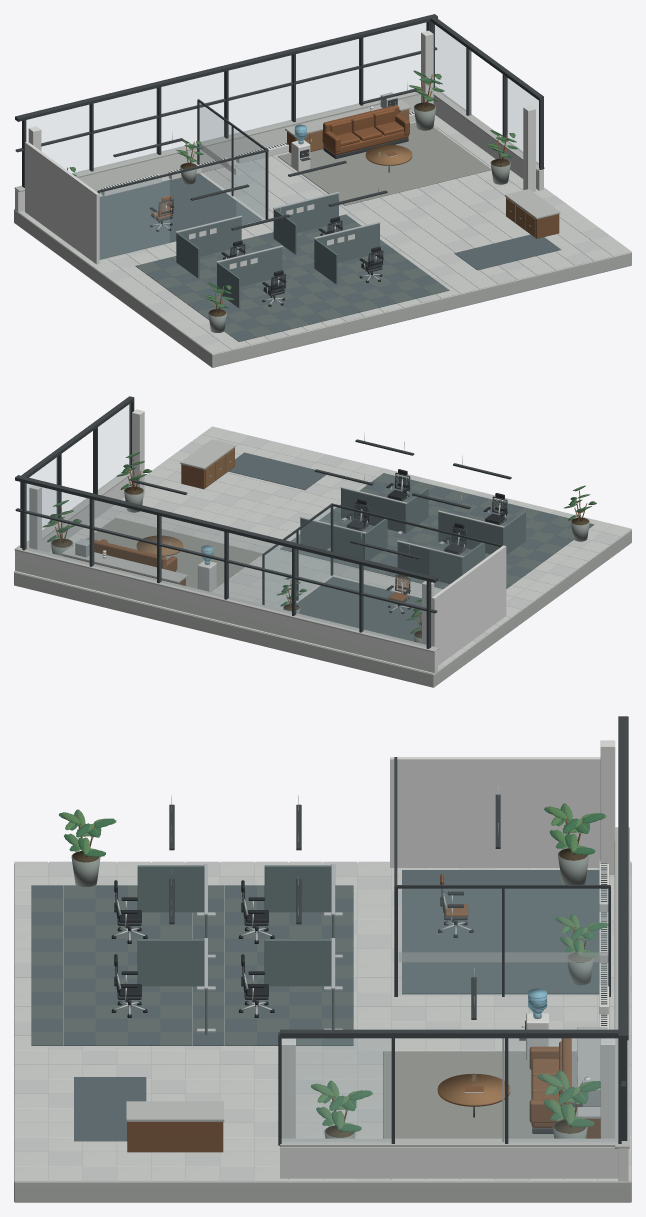
Rendered from office-shell.glb.
3 renders of one model, top to bottom at view 1: azimuth 30°, elevation 25°; view 2: azimuth 150°, elevation 25°; view 3: azimuth 270°, elevation 25°, orthographic. The views are drawn at different scales.
Visible parts, largest first — view 1: Iteration1 structural slab, Manager carpet insert, Lounge woven rug, Manager left partition, Manager front glazing half, Manager side glazing, Low iron glazed bay.004, Low iron glazed bay.001, Low iron glazed bay.003, Low iron glazed bay.002, Rear spandrel, Low iron glazed bay.005 (+28 smaller); view 2: Rear spandrel, Iteration1 structural slab, Manager left partition, Manager carpet insert, Low iron glazed bay.005, Low iron glazed bay, Low iron glazed bay.002, Low iron glazed bay.004, Low iron glazed bay.003, Low iron glazed bay.001, Lounge woven rug, Manager side glazing (+28 smaller); view 3: Manager left partition, Manager carpet insert, Manager side glazing, Iteration1 structural slab, Right glass bay, Right glass bay.001, Lounge woven rug, Right spandrel, Arrival floor mat, Rear facade head, Open window upper lintel, Cubicle acoustic return.002 (+17 smaller).
Boxes of the visible parts, x1=… form: Iteration1 structural slab: x1=14, y1=210, x2=631, y2=367; Manager carpet insert: x1=99, y1=173, x2=261, y2=259; Lounge woven rug: x1=277, y1=122, x2=491, y2=205; Manager left partition: x1=25, y1=141, x2=99, y2=264; Manager front glazing half: x1=100, y1=176, x2=169, y2=260; Manager side glazing: x1=199, y1=103, x2=264, y2=217; Low iron glazed bay.004: x1=296, y1=39, x2=359, y2=119; Low iron glazed bay.001: x1=94, y1=88, x2=157, y2=168; Low iron glazed bay.003: x1=229, y1=55, x2=291, y2=135; Low iron glazed bay.002: x1=161, y1=72, x2=224, y2=152; Rear spandrel: x1=15, y1=94, x2=420, y2=212; Low iron glazed bay.005: x1=363, y1=22, x2=426, y2=100; Rear spandrel: x1=15, y1=550, x2=437, y2=673; Iteration1 structural slab: x1=14, y1=529, x2=631, y2=687; Manager left partition: x1=431, y1=545, x2=506, y2=665; Manager carpet insert: x1=296, y1=576, x2=421, y2=641; Low iron glazed bay.005: x1=25, y1=483, x2=89, y2=564; Low iron glazed bay: x1=362, y1=566, x2=426, y2=646; Low iron glazed bay.002: x1=228, y1=533, x2=291, y2=614; Low iron glazed bay.004: x1=93, y1=500, x2=156, y2=581; Low iron glazed bay.003: x1=160, y1=516, x2=223, y2=597; Low iron glazed bay.001: x1=295, y1=549, x2=358, y2=630; Lounge woven rug: x1=86, y1=517, x2=262, y2=588; Manager side glazing: x1=265, y1=507, x2=330, y2=608; Manager left partition: x1=390, y1=757, x2=600, y2=868; Manager carpet insert: x1=402, y1=870, x2=599, y2=994; Manager side glazing: x1=398, y1=889, x2=607, y2=995; Iteration1 structural slab: x1=14, y1=863, x2=631, y2=1202; Right glass bay: x1=509, y1=1038, x2=617, y2=1141; Right glass bay.001: x1=282, y1=1038, x2=390, y2=1141; Lounge woven rug: x1=383, y1=1051, x2=577, y2=1138; Right spandrel: x1=280, y1=1147, x2=618, y2=1179; Arrival floor mat: x1=74, y1=1077, x2=146, y2=1141; Rear facade head: x1=618, y1=716, x2=628, y2=1040; Open window upper lintel: x1=280, y1=1029, x2=624, y2=1038; Cubicle acoustic return.002: x1=264, y1=939, x2=331, y2=986.
Size of the model in its own units: 22 by 5.38 by 18.
